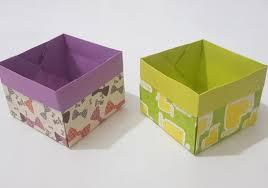box: (140, 38, 268, 157), (0, 33, 127, 149)
